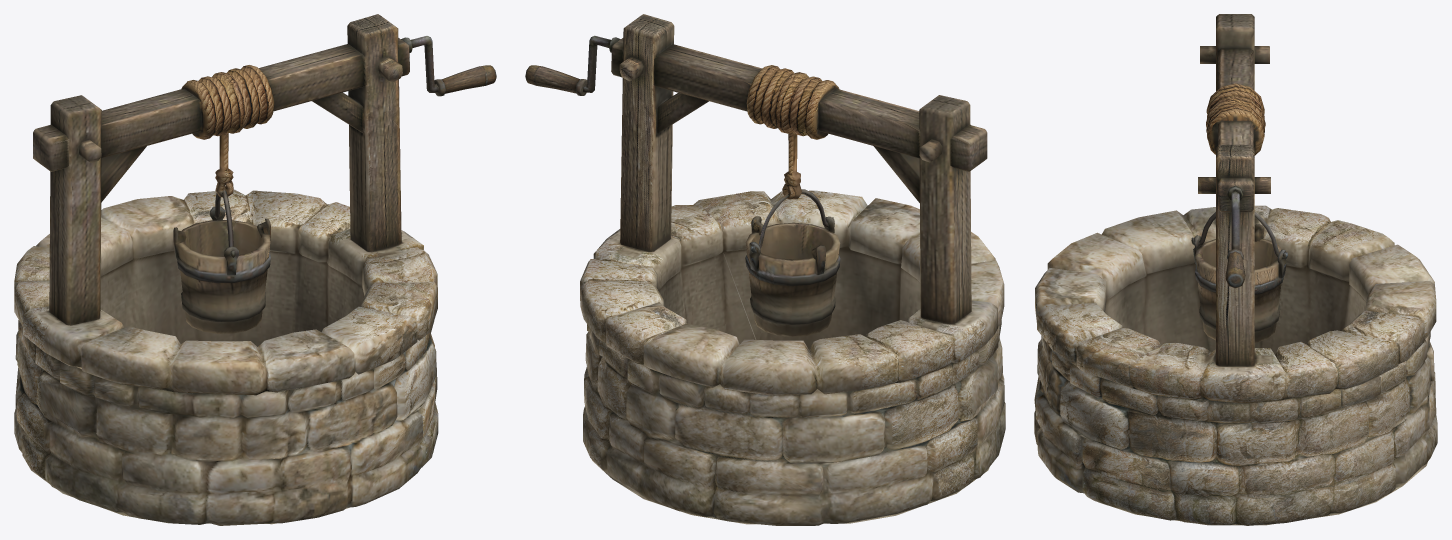
File: generated-1948-09-stone-village-well.glb
The picture shows the model from 3 angles, left to right: view 1: azimuth 30°, elevation 25°; view 2: azimuth 150°, elevation 25°; view 3: azimuth 270°, elevation 25°; orthographic projection. The views are drawn at different scales.
Visible parts, largest first — view 1: tripo_node_d8ce3d0e-d22d-4345-be04-040dcbd7b15f; view 2: tripo_node_d8ce3d0e-d22d-4345-be04-040dcbd7b15f; view 3: tripo_node_d8ce3d0e-d22d-4345-be04-040dcbd7b15f.
Part boxes in pixels (bbox=[...]): tripo_node_d8ce3d0e-d22d-4345-be04-040dcbd7b15f: bbox=[14, 14, 496, 525]; tripo_node_d8ce3d0e-d22d-4345-be04-040dcbd7b15f: bbox=[525, 14, 1005, 525]; tripo_node_d8ce3d0e-d22d-4345-be04-040dcbd7b15f: bbox=[1034, 14, 1437, 525].
Size of the model in its own units: 0.9995 by 0.7983 by 0.811.
1 material, 1 textured.
